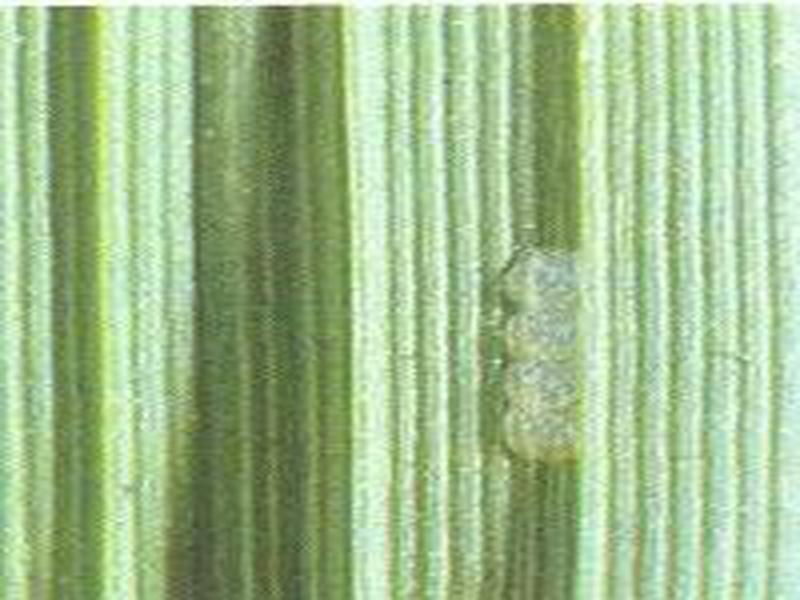Leaf_folder: (485, 236, 607, 487)
